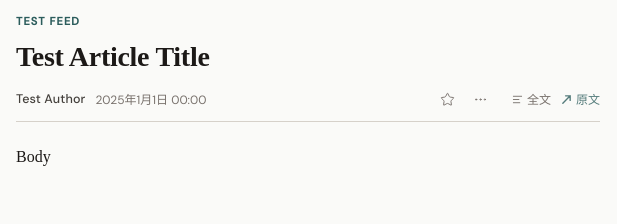
it: copy action › reports the result in place, keeping the menu open
Click the button named "更多操作" at point(480, 99), box [469,88,492,111]
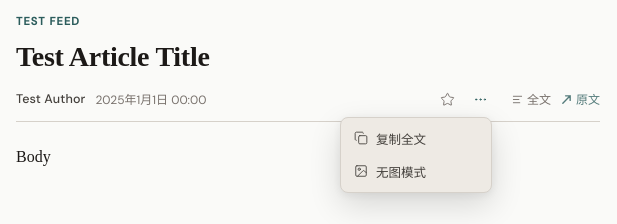
Click the menu item "复制全文" at point(416, 138), box [345,122,487,155]
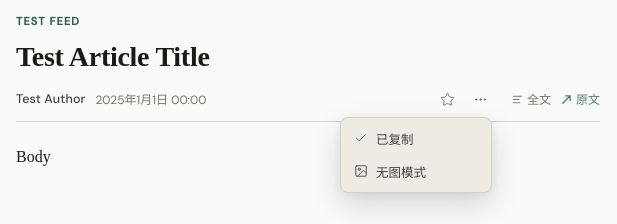
Check: the menu is shown, box [340,117,492,193]
Check: the menu item "已复制" is shown, box [345,122,487,155]
